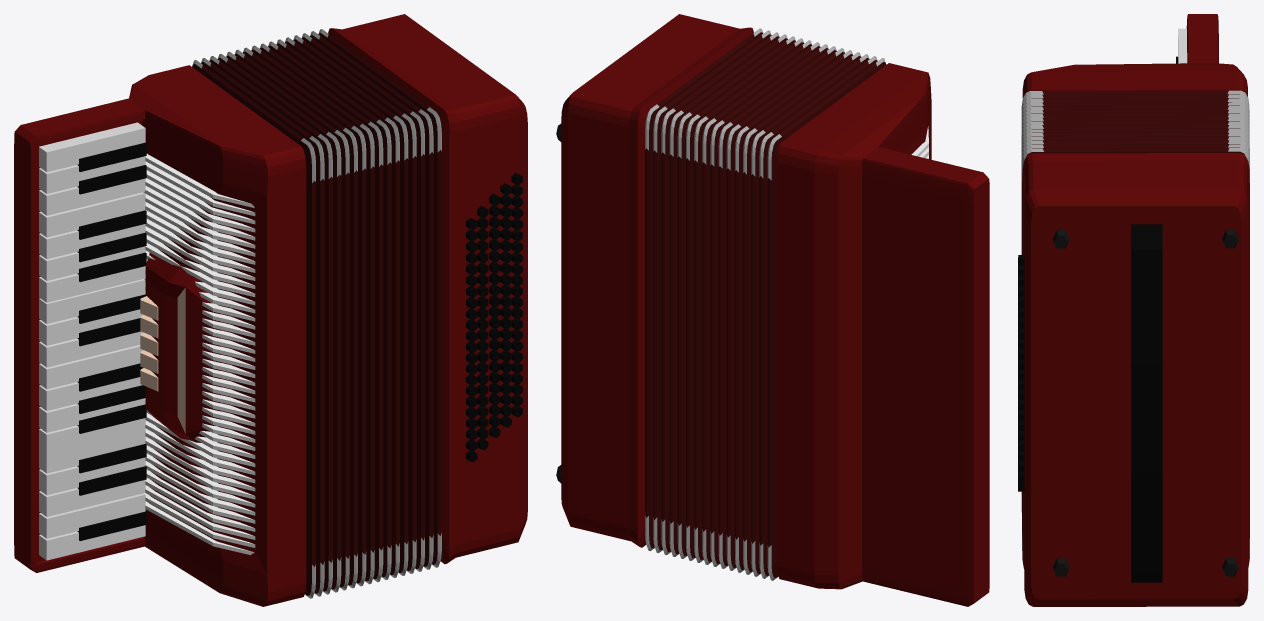
The model's file is Accordion10.fbx.
3 renders of one model, left to right at view 1: azimuth 30°, elevation 25°; view 2: azimuth 150°, elevation 25°; view 3: azimuth 270°, elevation 25°, orthographic. The views are drawn at different scales.
Parts seen in each view (by area): view 1: Cube.015; view 2: Cube.015; view 3: Cube.015.
Boxes of the visible parts, left/top/right/bottom form: Cube.015: left=14, top=14, right=527, bottom=606; Cube.015: left=556, top=14, right=989, bottom=606; Cube.015: left=1018, top=14, right=1249, bottom=606.
Size of the model in its own units: 57.64 by 56.02 by 27.69.
